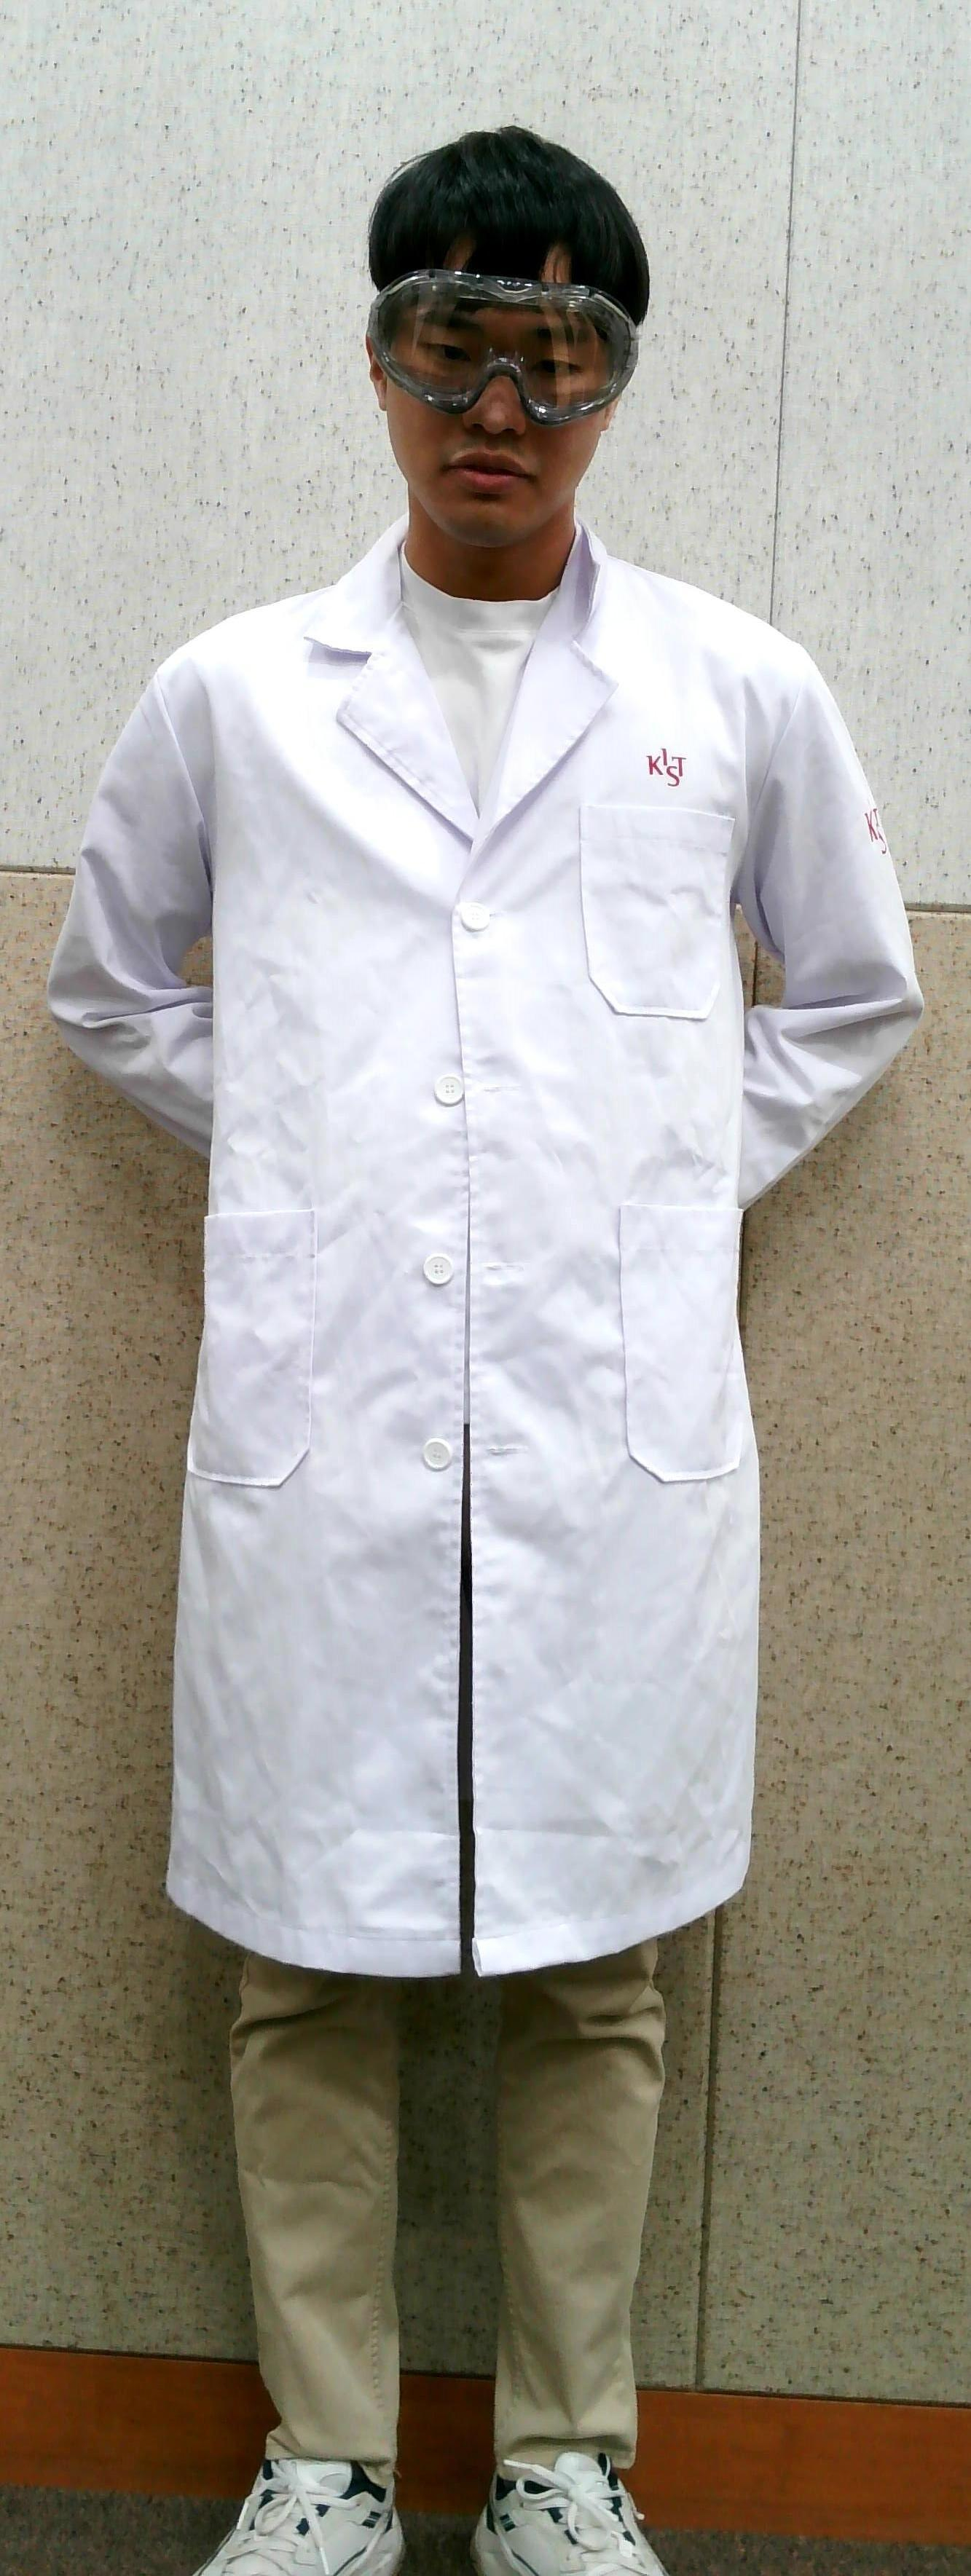lab_coat: (97, 621, 764, 1948)
